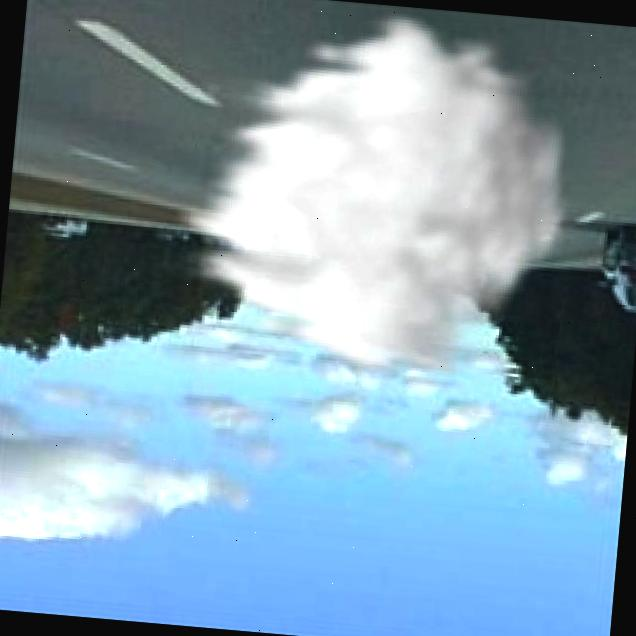smoke: (149, 0, 592, 391)
